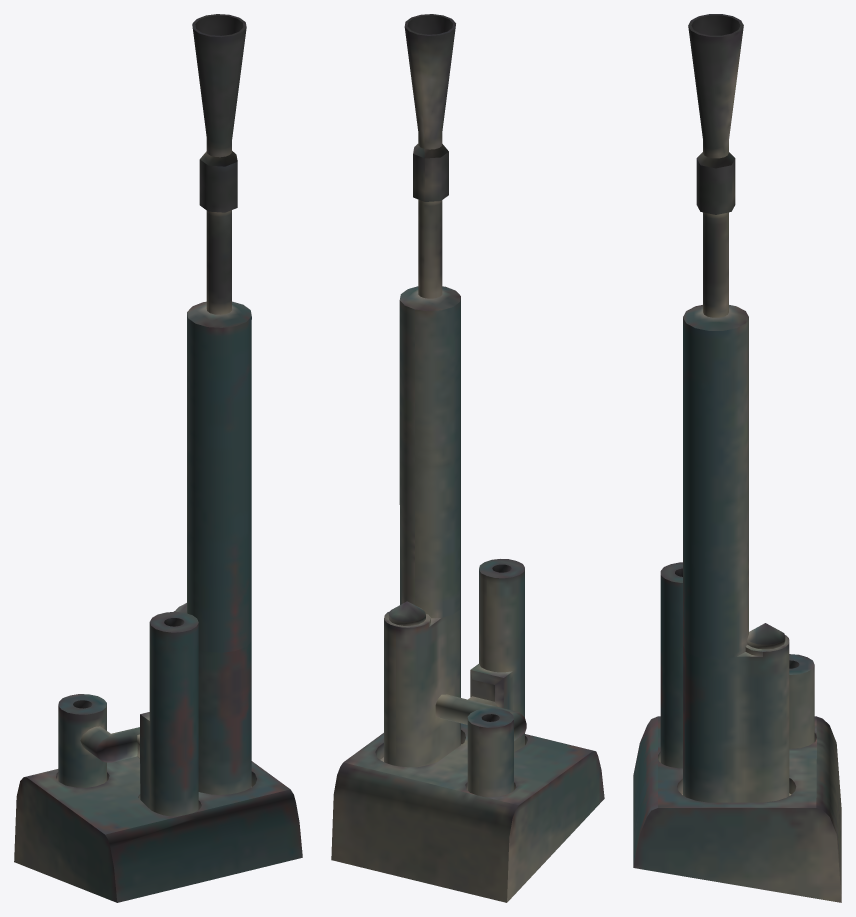
The model's file is Gun_03.glb.
3 views of the same model, side by side, from view 1: azimuth 30°, elevation 25°; view 2: azimuth 150°, elevation 25°; view 3: azimuth 270°, elevation 25° (orthographic). The views are drawn at different scales.
Parts seen in each view (by area): view 1: set_0_group_0; view 2: set_0_group_0; view 3: set_0_group_0.
Boxes of the visible parts, x1=… form: set_0_group_0: x1=14, y1=14, x2=302, y2=902; set_0_group_0: x1=331, y1=14, x2=604, y2=902; set_0_group_0: x1=633, y1=14, x2=841, y2=902.
Size of the model in its own units: 0.28 by 1.22 by 0.2697.
1 material, 1 textured.
